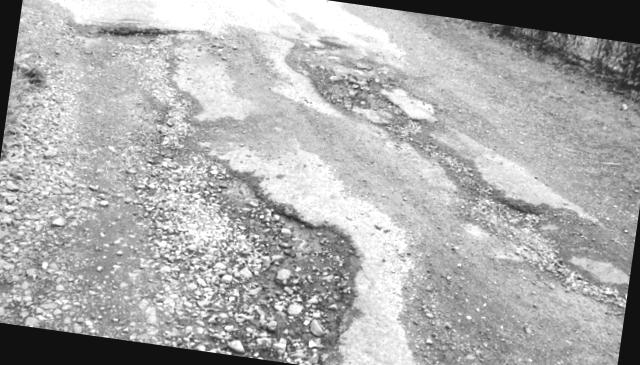Pothole: (0, 68, 398, 365), (459, 153, 640, 311), (263, 37, 435, 133), (86, 0, 189, 80)
